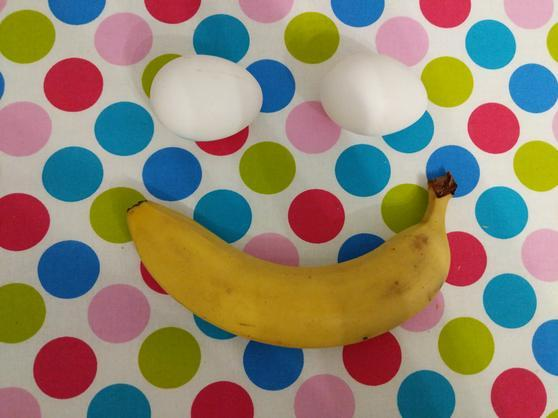banana: (124, 168, 460, 354)
egg: (312, 49, 435, 140), (147, 49, 265, 142)
